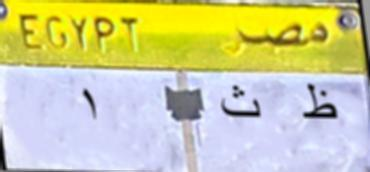1: (76, 80, 103, 124)
Thaa: (299, 84, 340, 126)
thaa: (216, 82, 263, 120)
